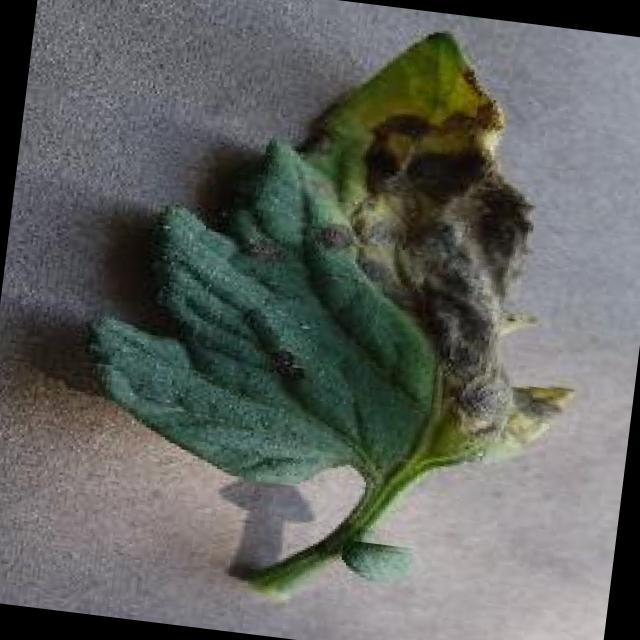Tomato_Early_Blight: (290, 17, 624, 499)
